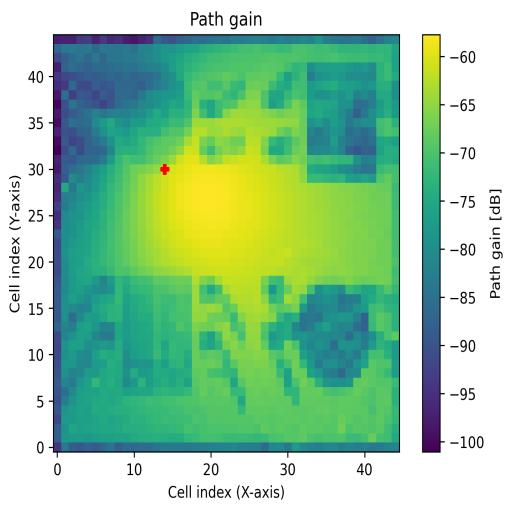Concrete: (307, 63, 376, 182)
Glass: (115, 72, 192, 159)
Metal: (300, 284, 368, 386)
Wood: (124, 274, 192, 397)
